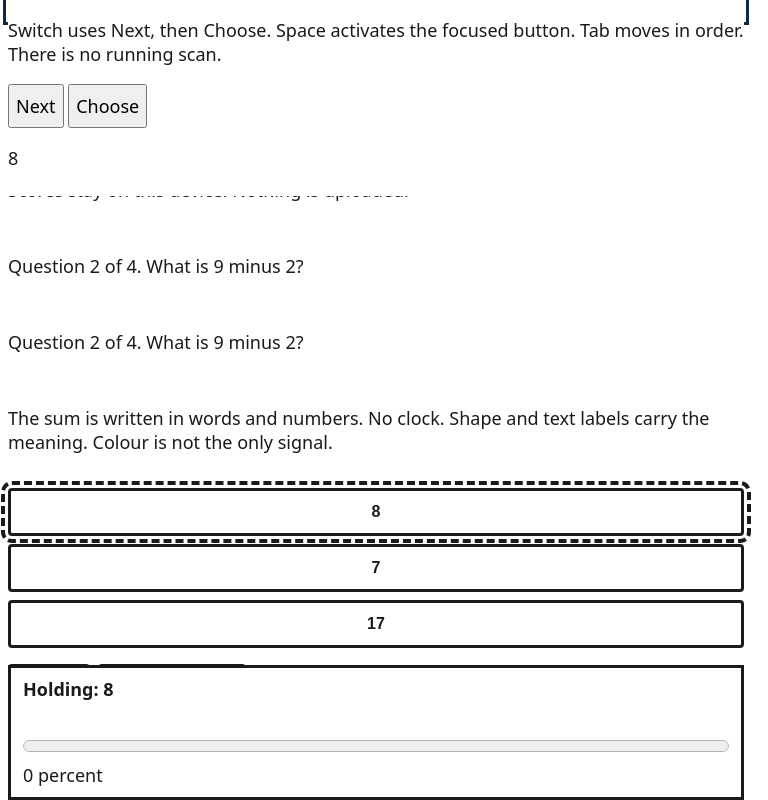
dwell select on the games hub › plays a full round with one switch: Next to move, then wait
Earlier steps of the test are not shown.
(page scrolled)
Click the button "Next" at (36, 106), box [8,84,64,128]
Wait 1000 ms
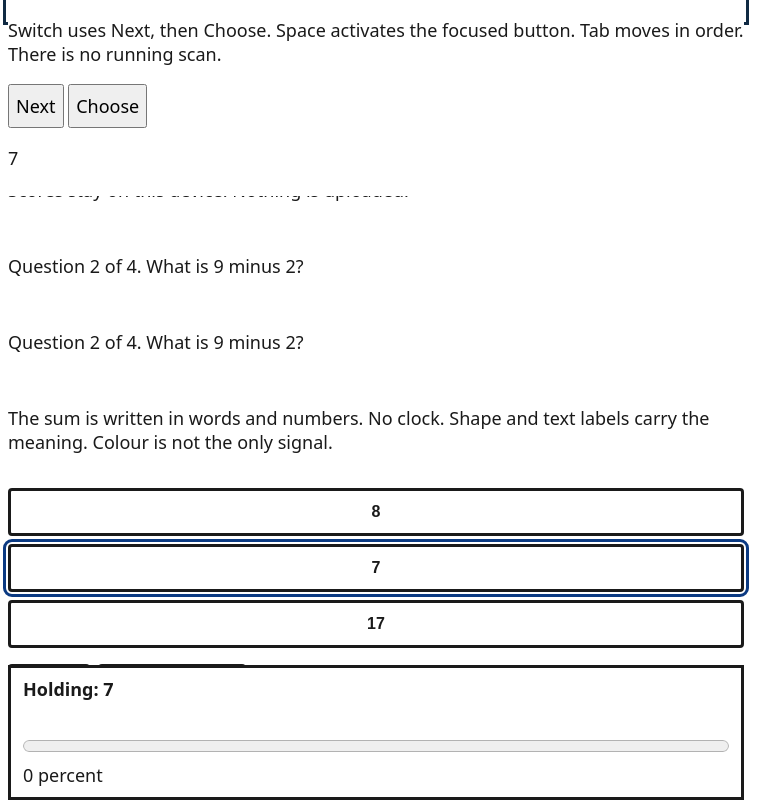
Click the button "7" at (376, 568), box [8,544,744,592]
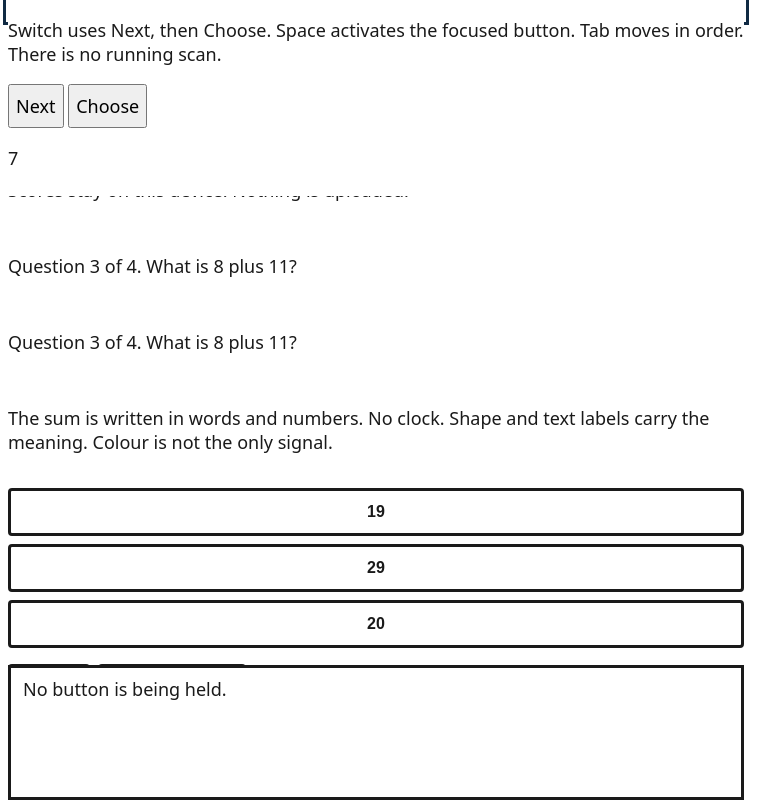
Click the button "Next" at (36, 106), box [8,84,64,128]
Wait 1000 ms
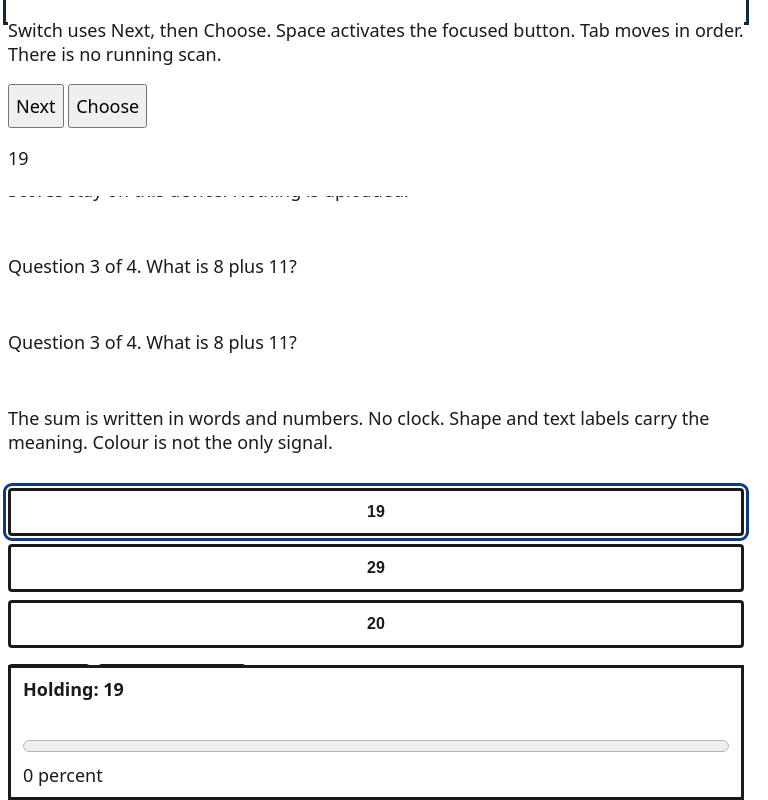
Click the button "19" at (376, 512), box [8,488,744,536]
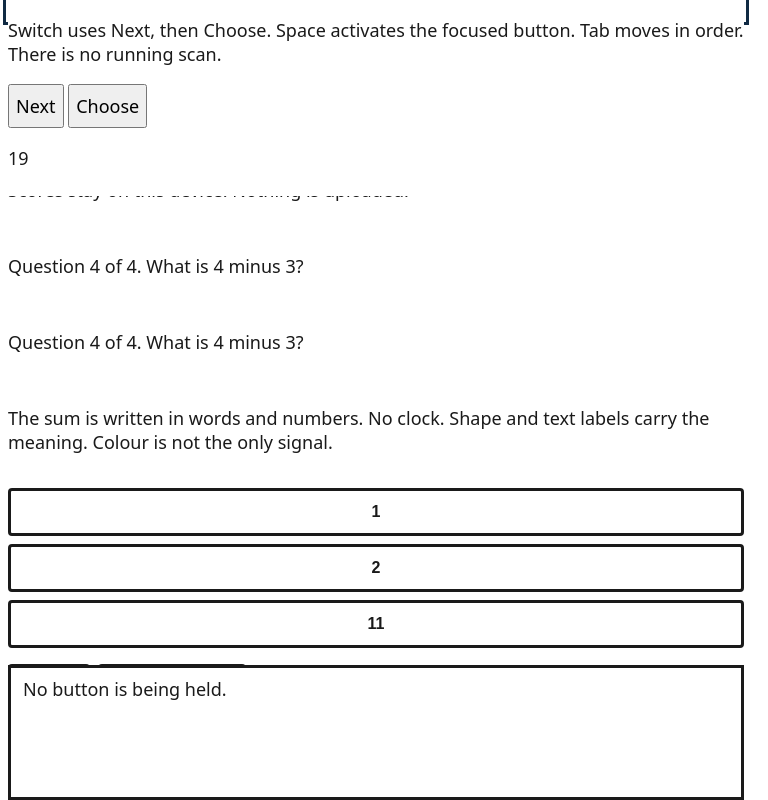
Click the button "Next" at (36, 106), box [8,84,64,128]
Wait 1000 ms
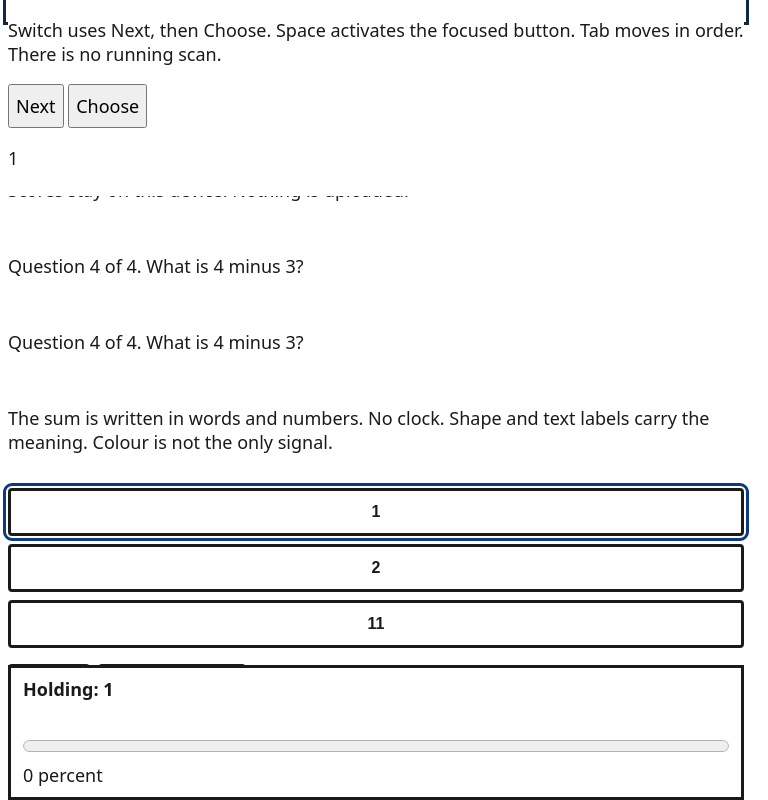
Click the button "1" at (376, 512), box [8,488,744,536]
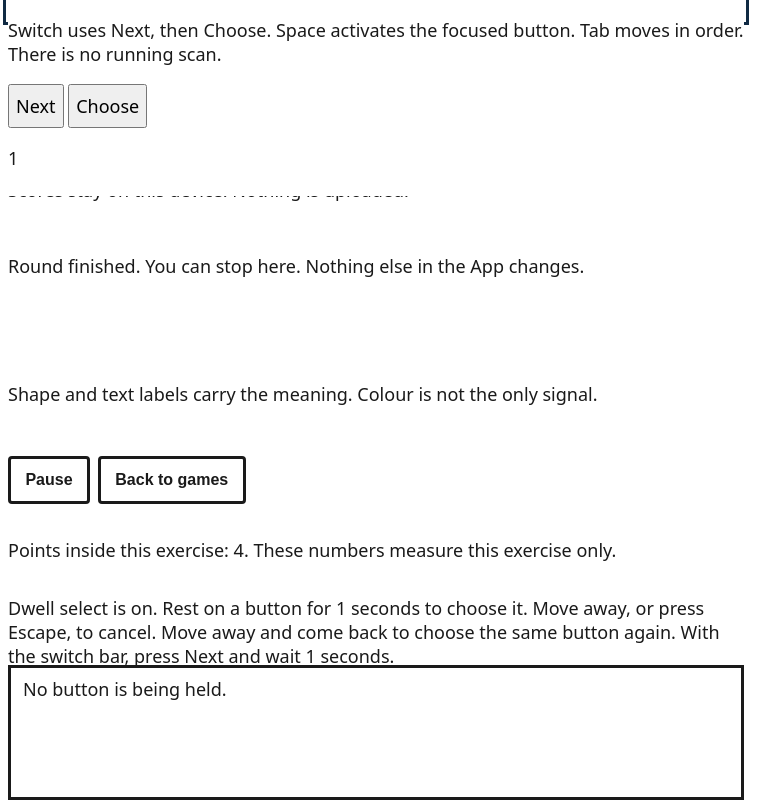
Check: the text "Round finished. You can stop here. Nothing else in the App changes." is shown, box [8,254,584,278]
